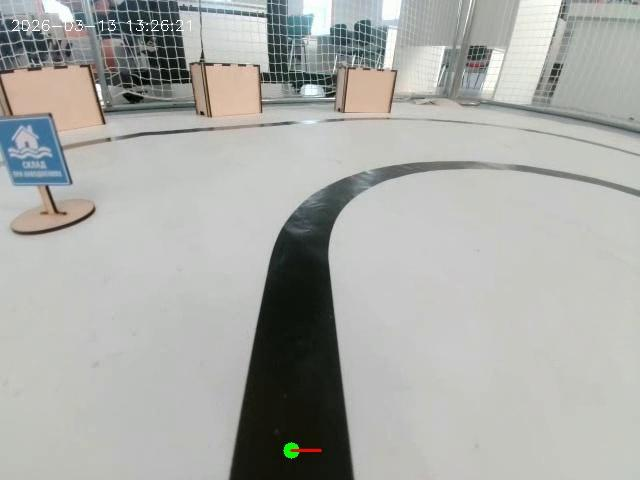flood: (0, 104, 81, 239)
